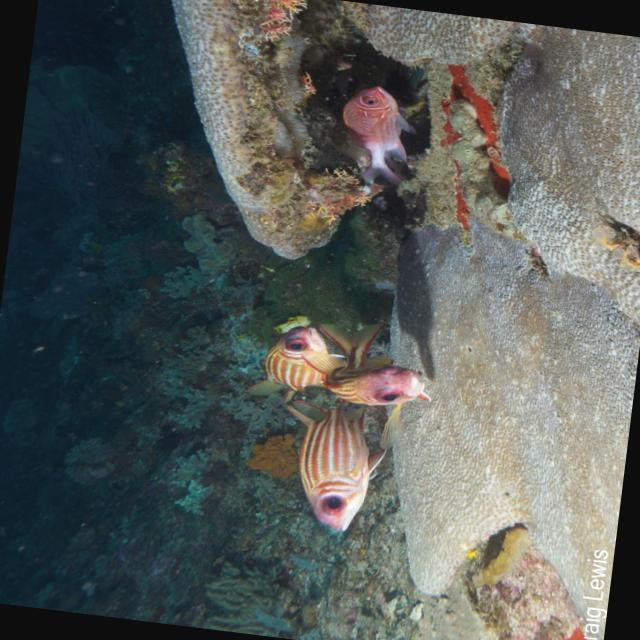Asker Baligi: (268, 391, 396, 540), (311, 58, 437, 190), (232, 306, 352, 422)
